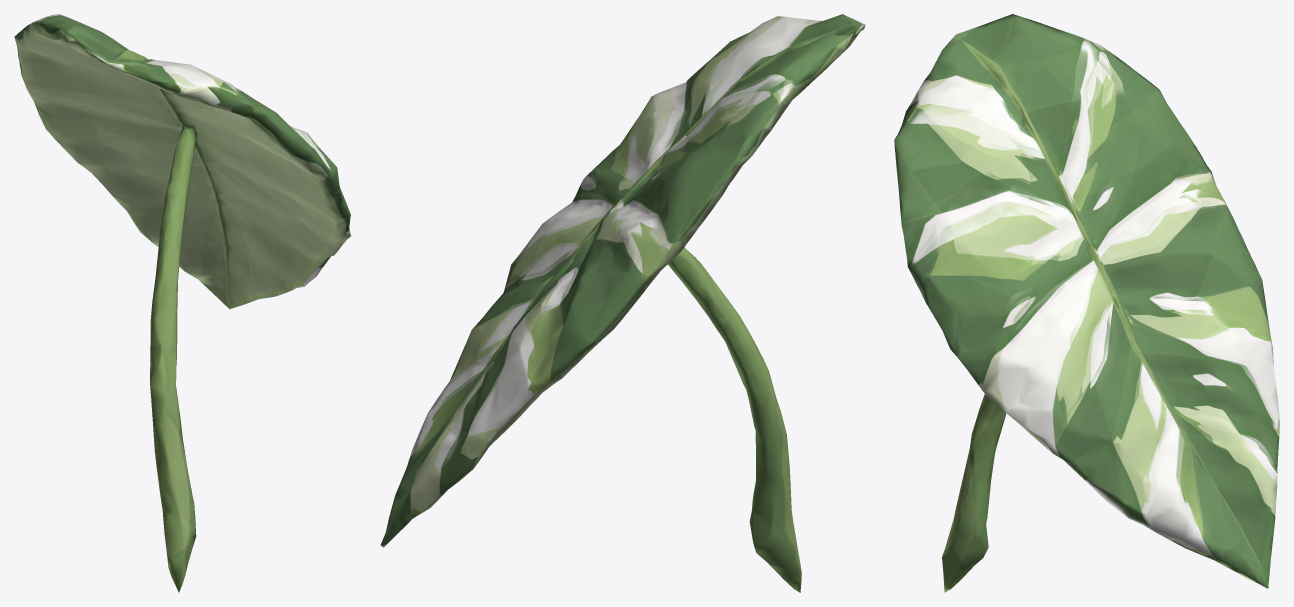
Rendered from ca_leaf_mid_whitefusion.glb.
3 views of the same model, side by side, from view 1: azimuth 30°, elevation 25°; view 2: azimuth 150°, elevation 25°; view 3: azimuth 270°, elevation 25° (orthographic). The views are drawn at different scales.
Visible parts, largest first — view 1: tripo_node_f192df29-4725-45f6-bd8c-cdf33d369d12; view 2: tripo_node_f192df29-4725-45f6-bd8c-cdf33d369d12; view 3: tripo_node_f192df29-4725-45f6-bd8c-cdf33d369d12.
Boxes of the visible parts, box(x1,y1,x2,y2) form: tripo_node_f192df29-4725-45f6-bd8c-cdf33d369d12: box(14, 14, 351, 592); tripo_node_f192df29-4725-45f6-bd8c-cdf33d369d12: box(380, 14, 865, 592); tripo_node_f192df29-4725-45f6-bd8c-cdf33d369d12: box(894, 14, 1279, 592).
Size of the model in its own units: 0.5838 by 1 by 0.6451.
1 material, 1 textured.
